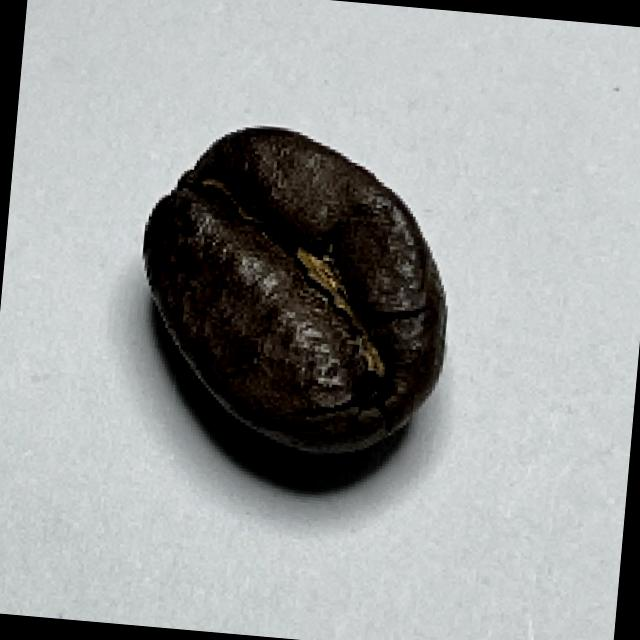bean: (118, 111, 464, 462)
